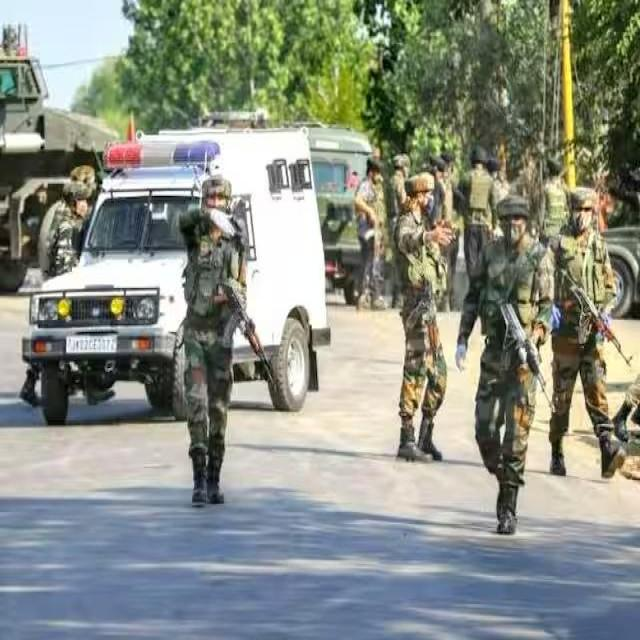plate: (62, 330, 119, 356)
